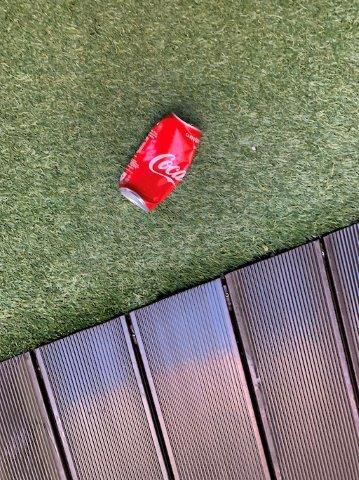kaleng: (120, 112, 200, 211)
